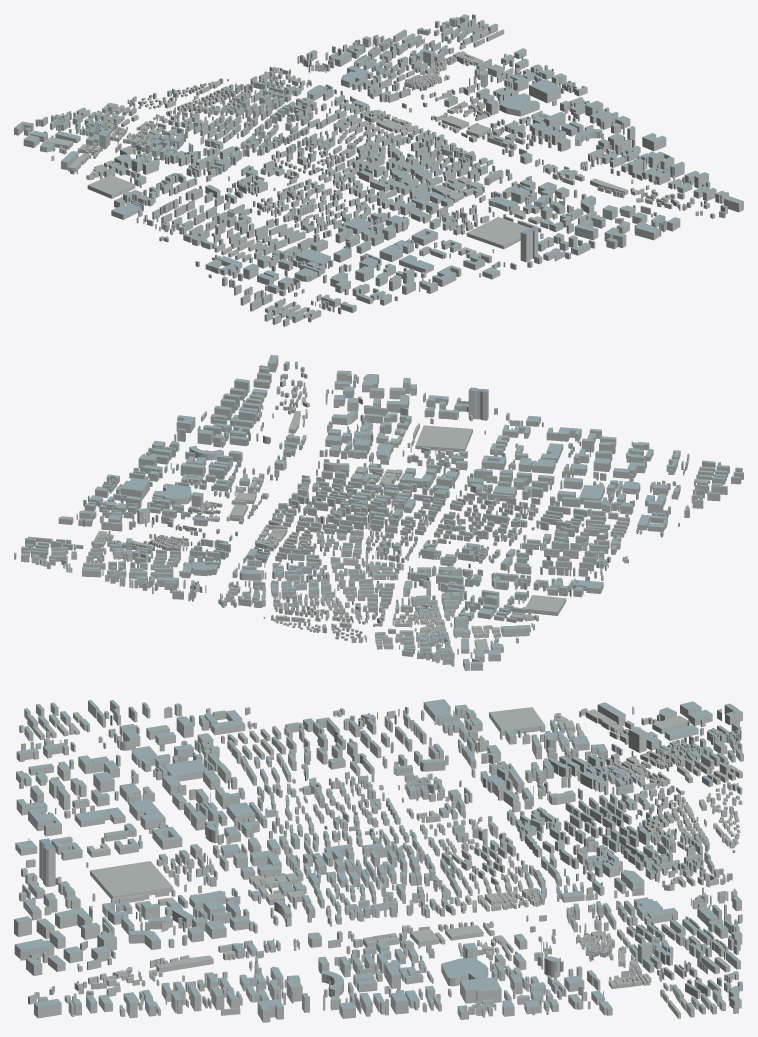
File: far.glb
3 renders of one model, top to bottom at view 1: azimuth 30°, elevation 25°; view 2: azimuth 150°, elevation 25°; view 3: azimuth 270°, elevation 25°, orthographic. The views are drawn at different scales.
Size of the model in its own units: 2181 by 120 by 2123.
